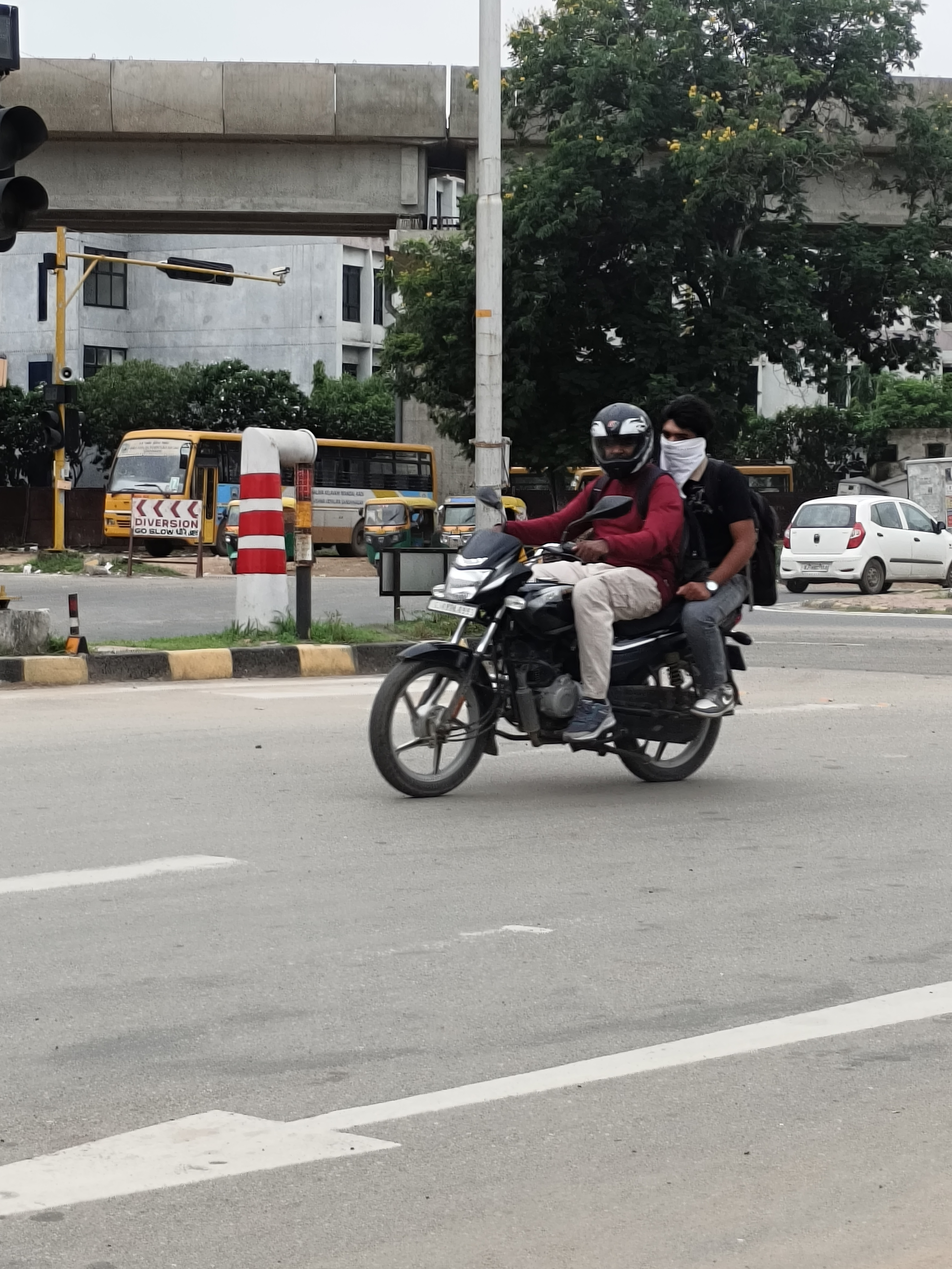BikeWithRider: (360, 397, 784, 802)
Helmet: (586, 399, 659, 481)
NoHelmet: (659, 399, 716, 473)
